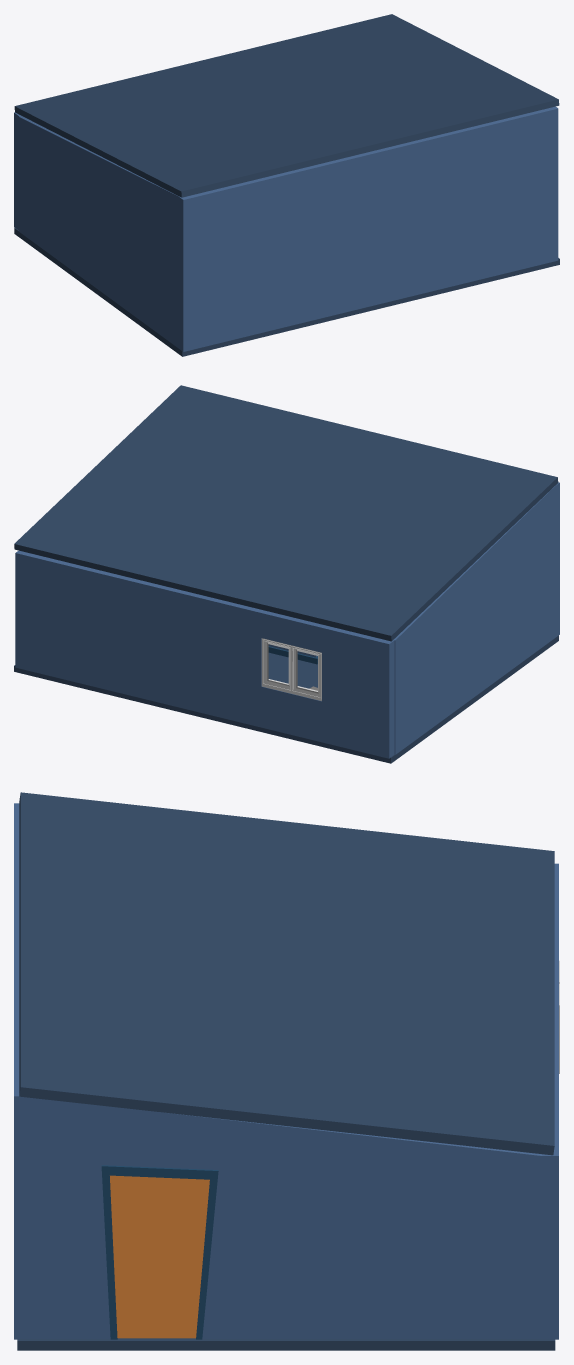
The model's file is colaider.fbx.
3 views of the same model, one above another, from view 1: azimuth 30°, elevation 25°; view 2: azimuth 150°, elevation 25°; view 3: azimuth 270°, elevation 25° (orthographic). The views are drawn at different scales.
Parts seen in each view (by area): view 1: Cylinder; view 2: Cylinder; view 3: Cylinder.
Part boxes in pixels (left/top/right/bottom): Cylinder: left=14, top=14, right=559, bottom=356; Cylinder: left=14, top=385, right=559, bottom=763; Cylinder: left=14, top=792, right=559, bottom=1350.
Size of the model in its own units: 3035 by 1264 by 2375.
